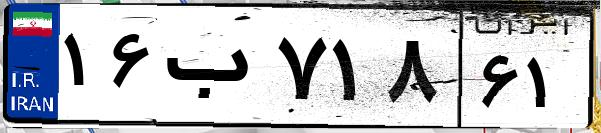1: (330, 28, 385, 110), (57, 26, 110, 100), (525, 38, 570, 115)
6: (475, 38, 525, 113), (110, 28, 158, 98)
7: (270, 28, 330, 110)
8: (385, 28, 445, 110)
ب: (158, 20, 270, 120)
